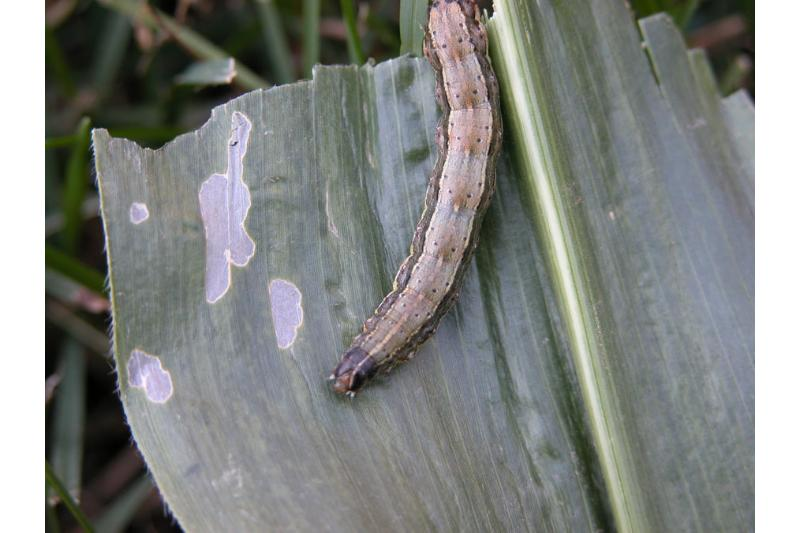fall-armyworm: (330, 1, 505, 398)
